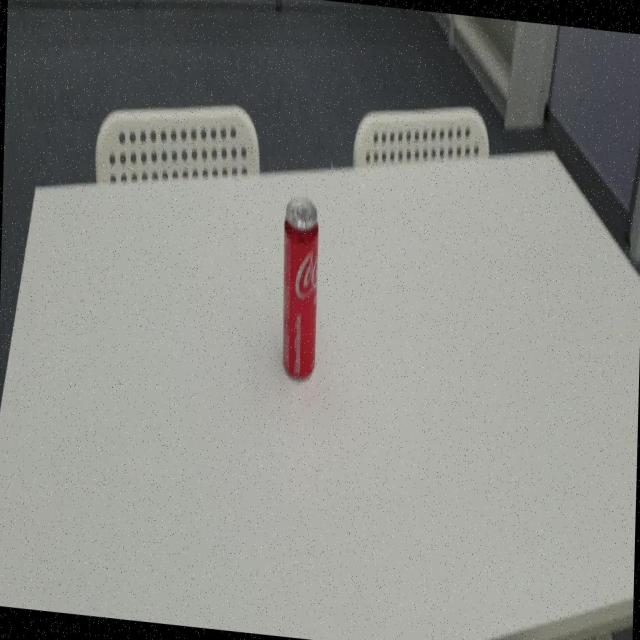coca-cola: (278, 192, 322, 386)
